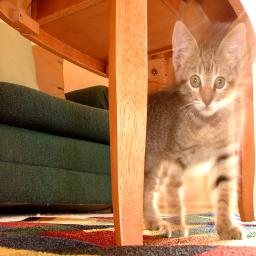catnose: (201, 90, 215, 110)
